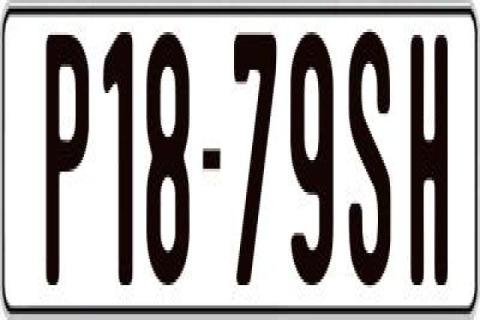0: (234, 32, 282, 294), (146, 27, 190, 286), (288, 27, 332, 286), (104, 26, 134, 288)
H: (410, 32, 448, 296)
P: (46, 29, 90, 288)
S: (346, 26, 394, 291)
